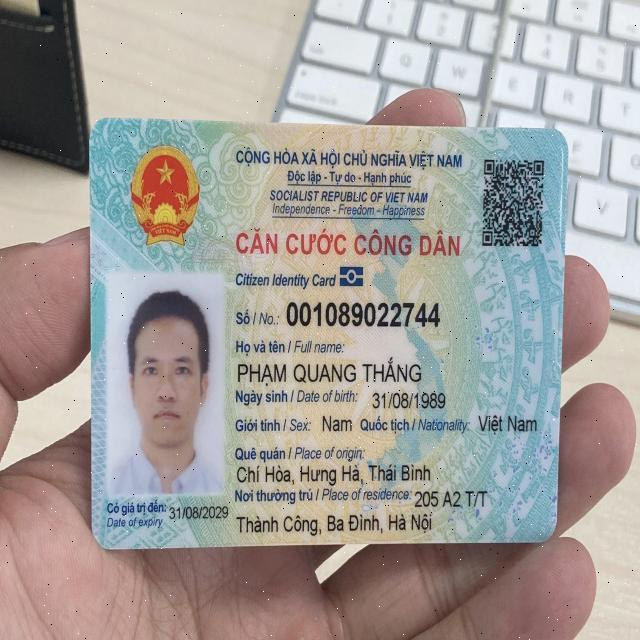current_place: (235, 509, 434, 536), (415, 486, 489, 513)
dob: (370, 387, 448, 413)
expire_date: (167, 501, 231, 524)
gender: (322, 406, 358, 435)
id: (283, 297, 442, 328)
name: (237, 354, 428, 388)
nationality: (479, 407, 540, 435)
origin_place: (235, 461, 433, 485)
